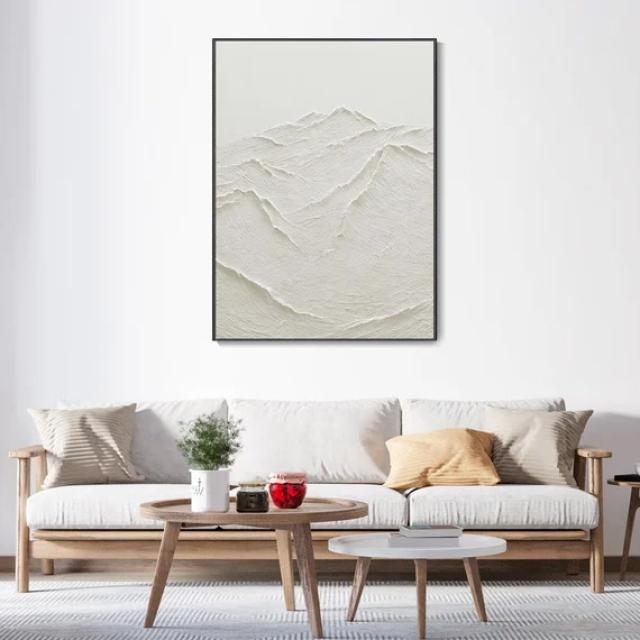painting: (213, 36, 434, 339)
